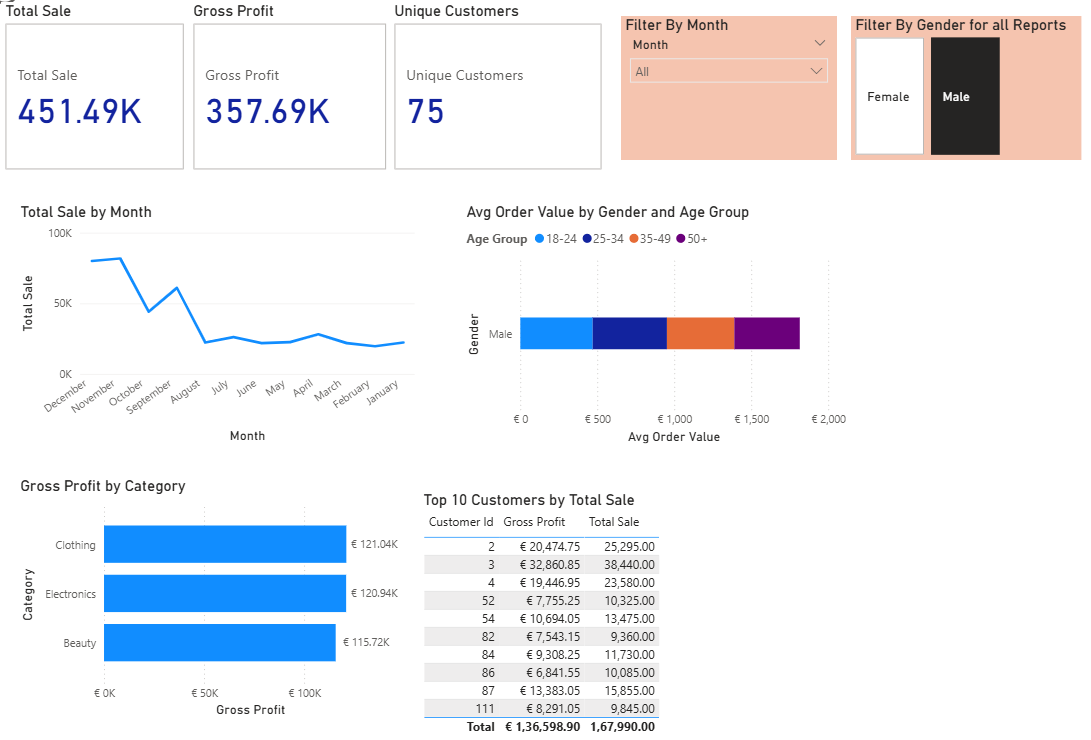

What the dashboard file says about the page in this screenshot:
{"tool":"powerbi","page":{"name":"Page 1","canvas":[1600,900],"ordinal":0},"visuals":[{"type":"lineChart","fields":{"Y":["Catergory.Total Sale"],"Category":["Date.Month"]},"box":[32,256,448,272],"z":0},{"type":"actionButton","box":[0,0,100,40],"z":1000},{"type":"barChart","fields":{"Category":["Catergory.Category"],"Y":["Catergory.Gross Profit"]},"box":[48,560,432,272],"z":2000},{"type":"tableEx","fields":{"Values":["Customers.Customer Id","Catergory.Gross Profit","Catergory.Total Sale"]},"box":[480,576,432,288],"z":3000},{"type":"donutChart","fields":{"Category":["Customers.Gender"],"Y":["Catergory.Total Sale"]},"box":[896,592,336,288],"z":4000},{"type":"barChart","fields":{"Category":["Customers.Gender"],"Y":["Catergory.Avg Order Value"],"Series":["Retail Sales Data.Age Group"]},"box":[528,256,432,272],"z":5000},{"type":"cardVisual","title":"Total Revenue","fields":{"Data":["Catergory.Total Sale"]},"box":[16,32,272,192],"z":6000},{"type":"cardVisual","title":"Gross Profit","fields":{"Data":["Catergory.Gross Profit"]},"box":[304,32,272,192],"z":7000},{"type":"cardVisual","title":"Unique Customers","fields":{"Data":["Catergory.Unique Customer"]},"box":[592,32,272,192],"z":8000},{"type":"advancedSlicerVisual","title":"Filter By Gender for all Reports","fields":{"Values":["Customers.Gender"]},"box":[1247.8,64.4,352,160],"z":9000},{"type":"slicer","title":"Filter By Month","fields":{"Values":["Date.Month"]},"box":[879.8,64.4,336,160],"z":10000}]}

Visuals, with their boxes on the page's 1600x900 design canvas (x1, y1, x2, y2). These are canvas units, not pixel positions in the 1091x740 screenshot, which may show the page scaled, cropped or inside an application window:
lineChart - Catergory.Total Sale x Date.Month: (32,256,480,528)
actionButton: (0,0,100,40)
barChart - Catergory.Category x Catergory.Gross Profit: (48,560,480,832)
tableEx - Customers.Customer Id x Catergory.Gross Profit: (480,576,912,864)
donutChart - Customers.Gender x Catergory.Total Sale: (896,592,1232,880)
barChart - Customers.Gender x Catergory.Avg Order Value: (528,256,960,528)
"Total Revenue" cardVisual: (16,32,288,224)
"Gross Profit" cardVisual: (304,32,576,224)
"Unique Customers" cardVisual: (592,32,864,224)
"Filter By Gender for all Reports" advancedSlicerVisual: (1248,64,1600,224)
"Filter By Month" slicer: (880,64,1216,224)
